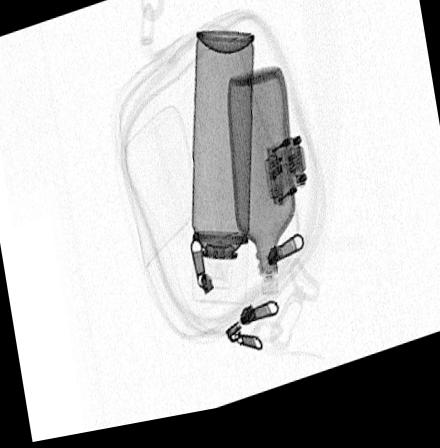Sprayer: (188, 36, 255, 316)
